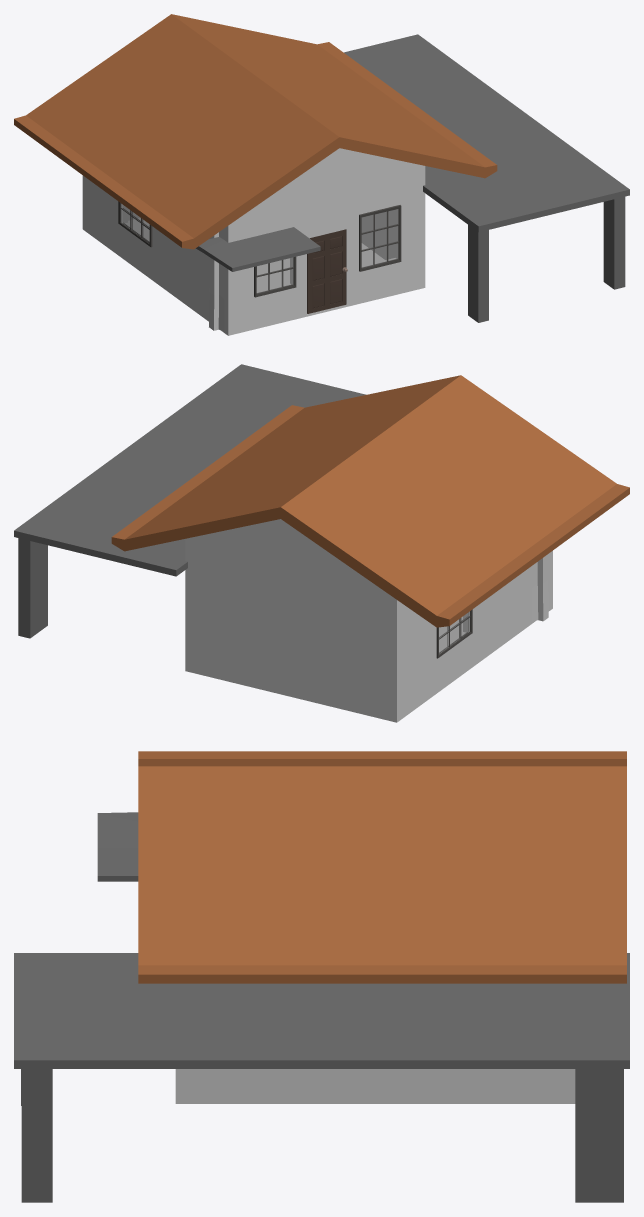
File: Street House 4.fbx
The picture shows the model from 3 angles, top to bottom: view 1: azimuth 30°, elevation 25°; view 2: azimuth 150°, elevation 25°; view 3: azimuth 270°, elevation 25°; orthographic projection. The views are drawn at different scales.
Visible parts, largest first — view 1: polySurface9, polySurface3, polySurface11, polySurface10, polySurface1; view 2: polySurface9, polySurface1; view 3: polySurface9.
Part boxes in pixels (box(x1,y1,x2,y2)): polySurface9: box(14, 14, 629, 335); polySurface3: box(307, 229, 347, 313); polySurface11: box(359, 205, 401, 271); polySurface10: box(254, 256, 296, 297); polySurface1: box(118, 201, 152, 247); polySurface9: box(14, 364, 629, 722); polySurface1: box(436, 609, 472, 658); polySurface9: box(14, 751, 629, 1202).
Bounding box in the file's own units: 52.32 × 22.77 × 47.42.
